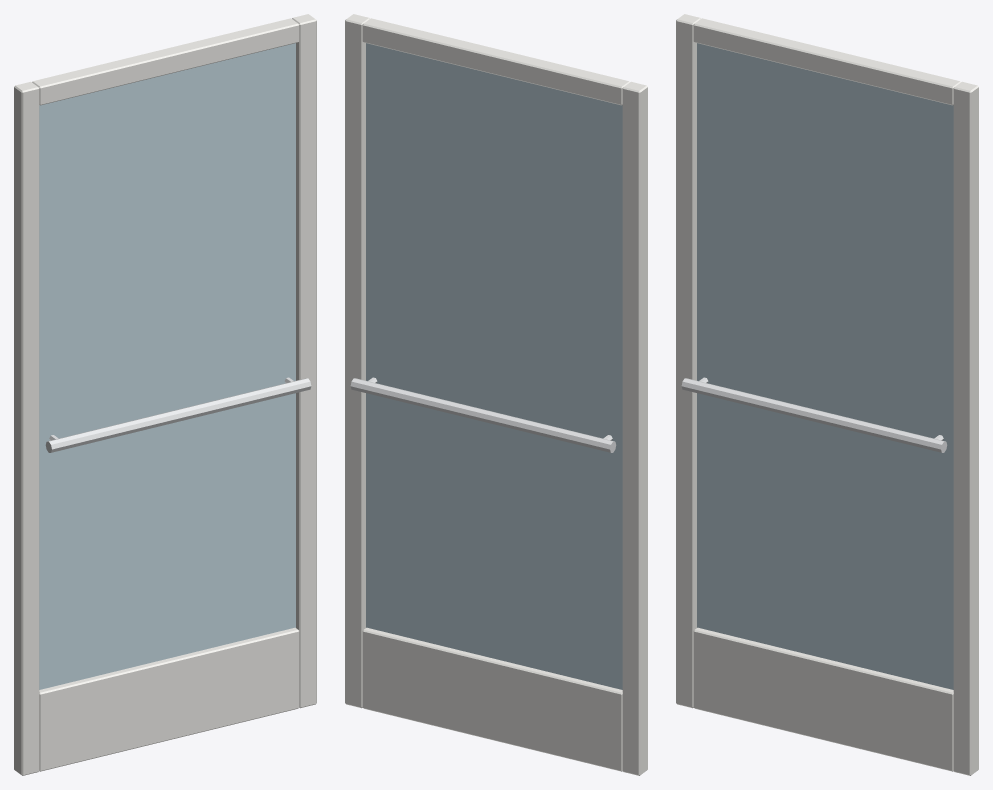
File: door_office.glb
3 views of the same model, side by side, from view 1: azimuth 30°, elevation 25°; view 2: azimuth 150°, elevation 25°; view 3: azimuth 330°, elevation 25° (orthographic).
Visible parts, largest first — view 1: door_office_glass, door_office_frame, door_office_chrome; view 2: door_office_glass, door_office_frame, door_office_chrome; view 3: door_office_glass, door_office_frame, door_office_chrome.
Part boxes in pixels (x1,y1,x2,y2): door_office_glass: (39, 43, 295, 689); door_office_frame: (14, 14, 316, 775); door_office_chrome: (45, 377, 311, 452); door_office_glass: (366, 43, 622, 689); door_office_frame: (345, 14, 647, 775); door_office_chrome: (350, 377, 616, 452); door_office_glass: (697, 43, 953, 689); door_office_frame: (676, 14, 978, 775); door_office_chrome: (681, 377, 947, 452).
Size of the model in its own units: 0.98 by 2.17 by 0.186.
